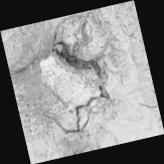crack: (0, 1, 163, 164)
